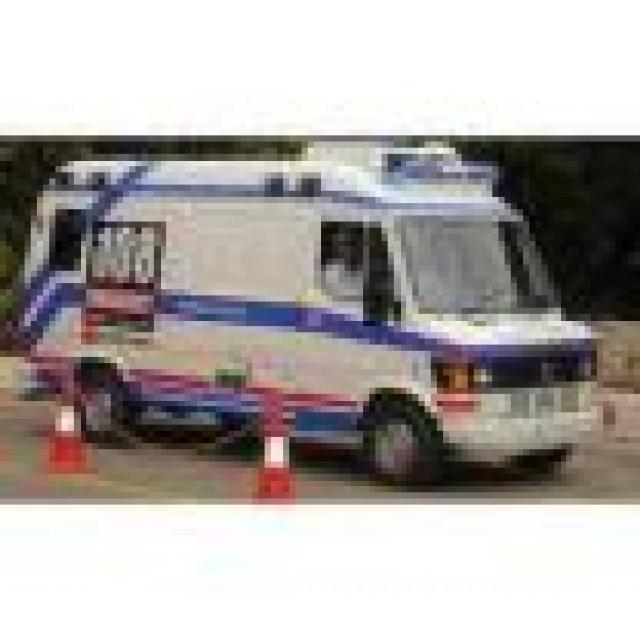emergency-vehicle: (24, 145, 622, 478)
